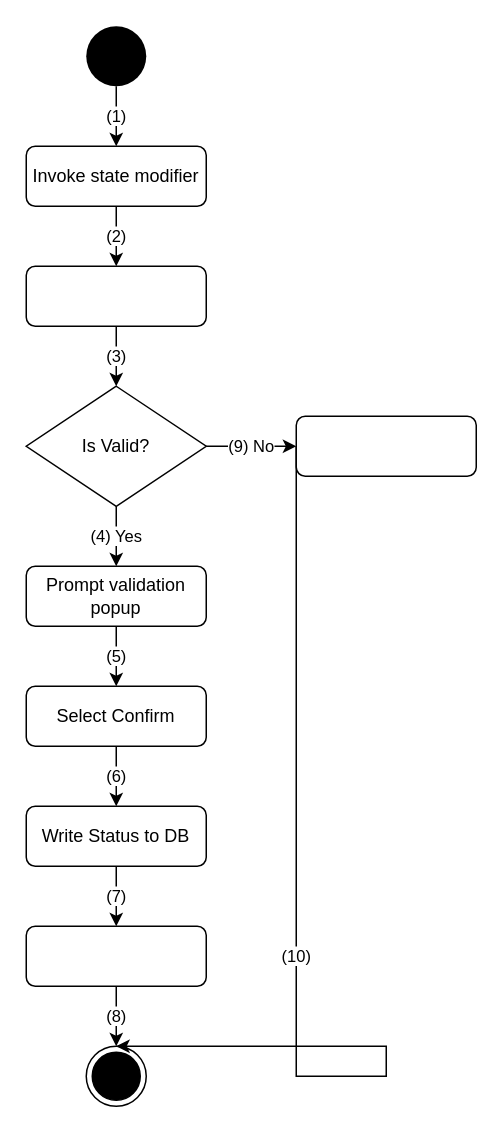
This 503x1133 diagram has some shape labels left out. Each missing label, with the centre of its shape:
"Block & warn action denied" goes at (385,445).
"Refresh view & show success" goes at (115,955).
"Validate against safety rules" goes at (115,295).
